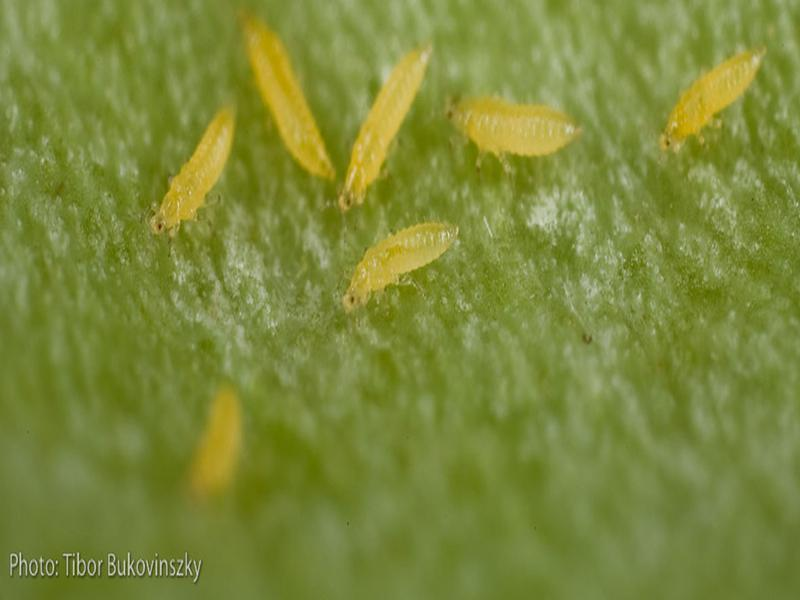Thrips: (145, 31, 777, 258)
